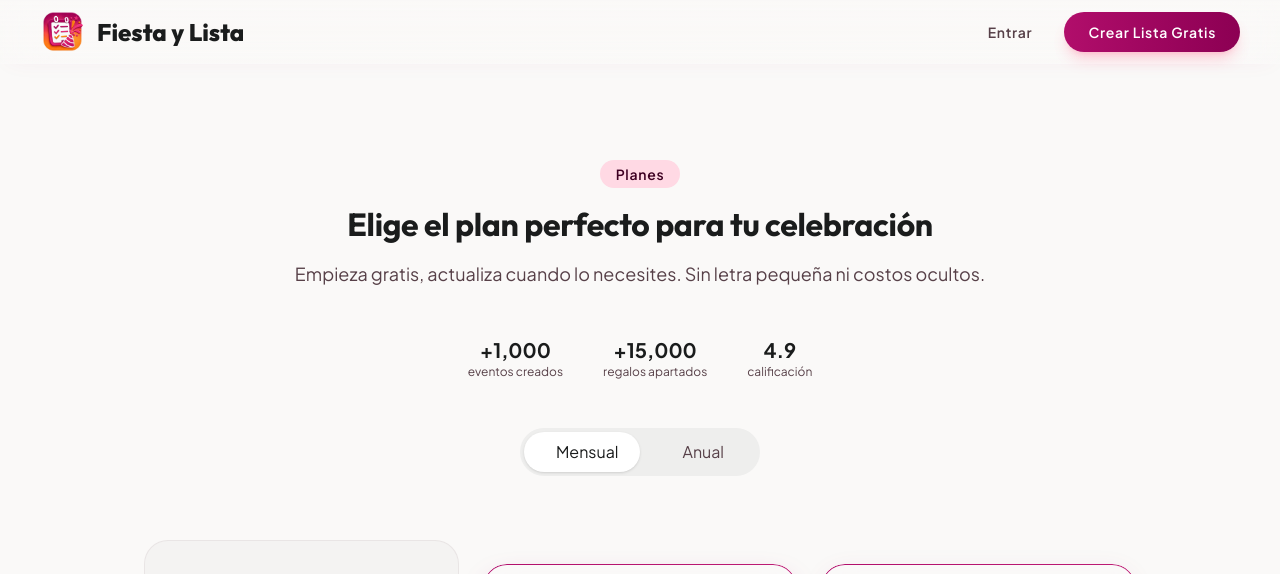
Test: Pricing › toggles to yearly pricing
The width and height of the screenshot is (1280, 574).
Click the button with test id "pricing-toggle-yearly": click(703, 452) [650, 432, 756, 472]
(page scrolled)
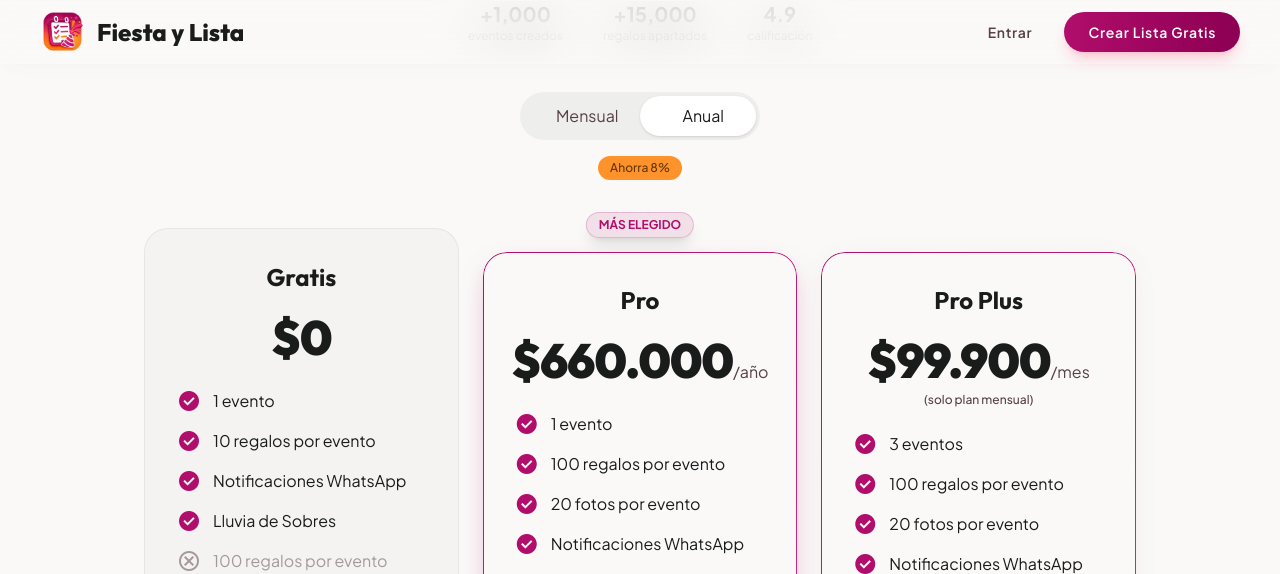
Expected: the text "$660.000" is shown, [511, 330, 733, 390]
